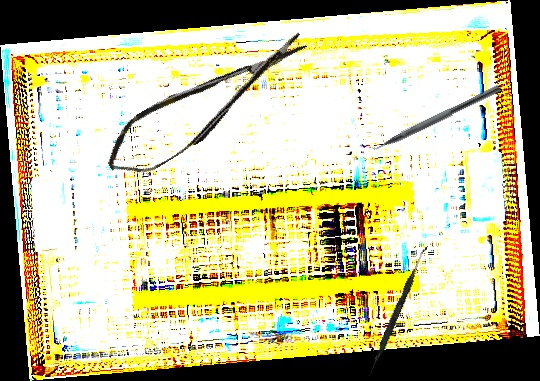Chopper: (358, 75, 502, 160)
Micro Scissor: (94, 21, 321, 189)
Spatula Surgical: (367, 243, 428, 379)
